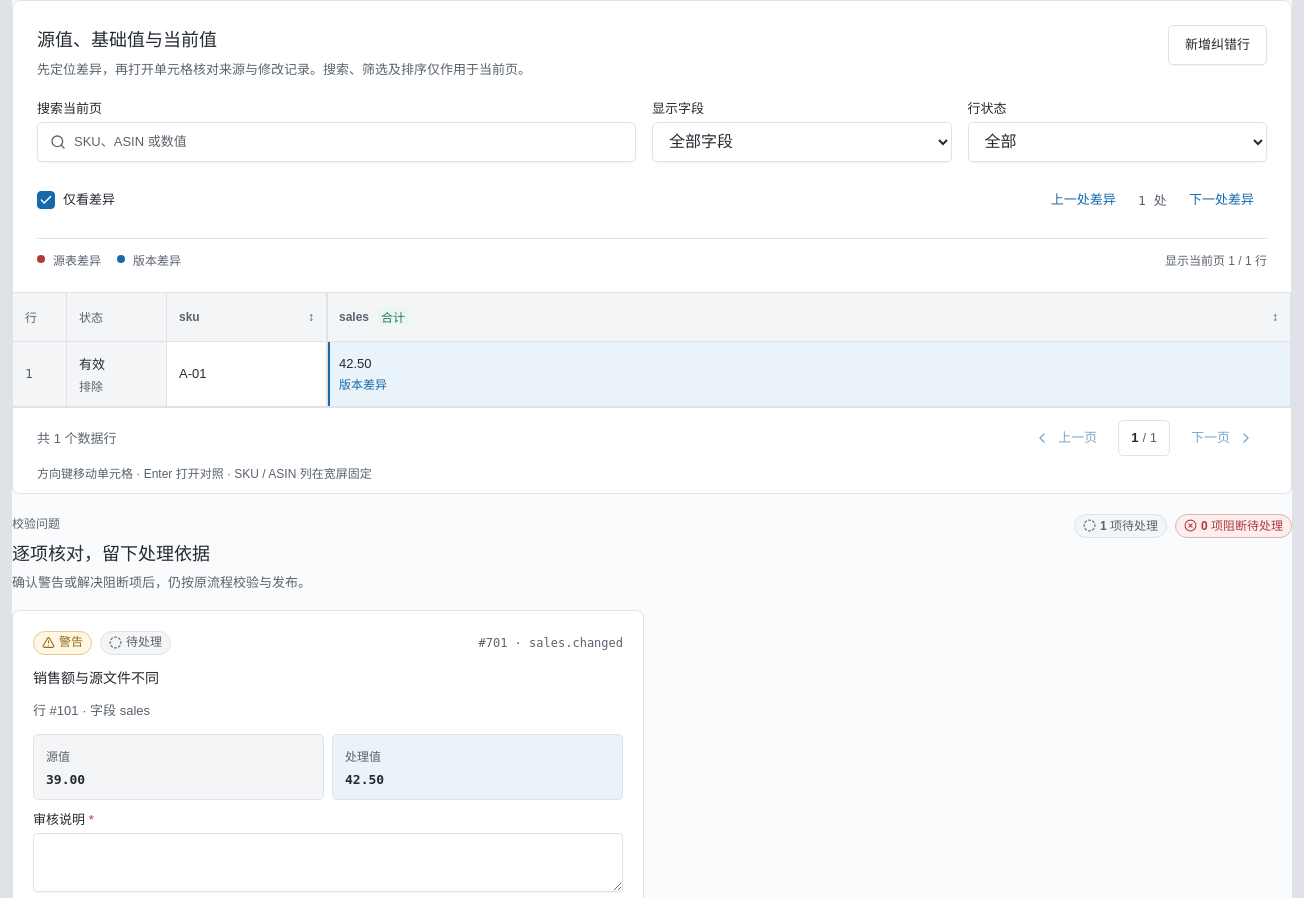
Scenario: ReviewDataTable › announces source and base differences independently and keeps filter recovery local
The image size is (1304, 898).
expect the button with aria-label "sales，当前值 42.50，与基础版本不同" shows "版本差异": met, box 327,342 -> 1290,406
expect the button with aria-label "管理第 1 行状态，当前 active" shows "有效": met, box 67,342 -> 166,406
Type "not-here" into the search field labelled "搜索当前页" at (352, 142), box 74,123 -> 631,161
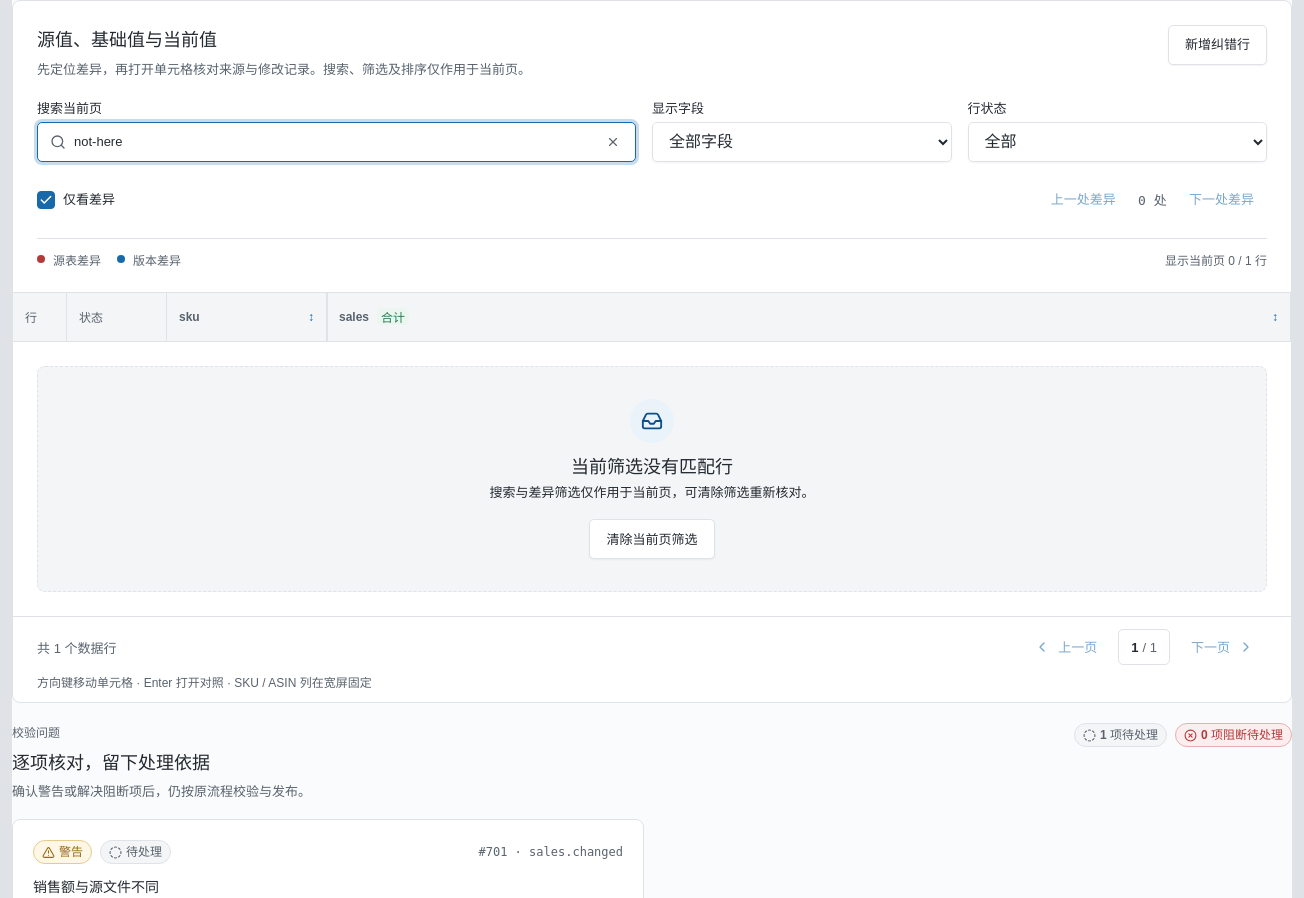
expect the heading "当前筛选没有匹配行" is shown: met, box 571,457 -> 733,477
Click the button "清除当前页筛选" at (652, 539), box 590,519 -> 714,559
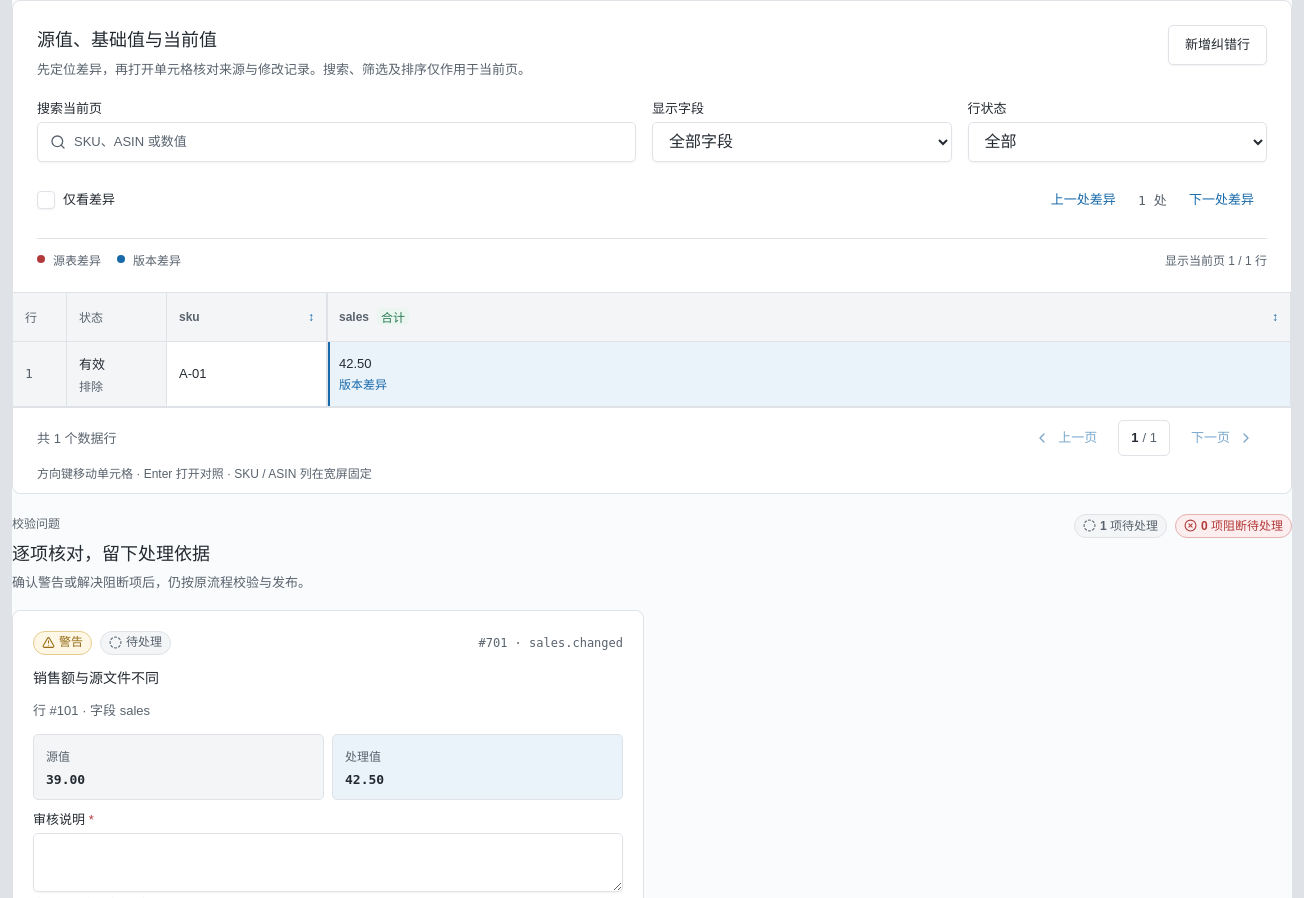
expect the search field labelled "搜索当前页" is empty: met, box 74,123 -> 631,161
expect the checkbox labelled "仅看差异" is not checked: met, box 37,191 -> 55,209
